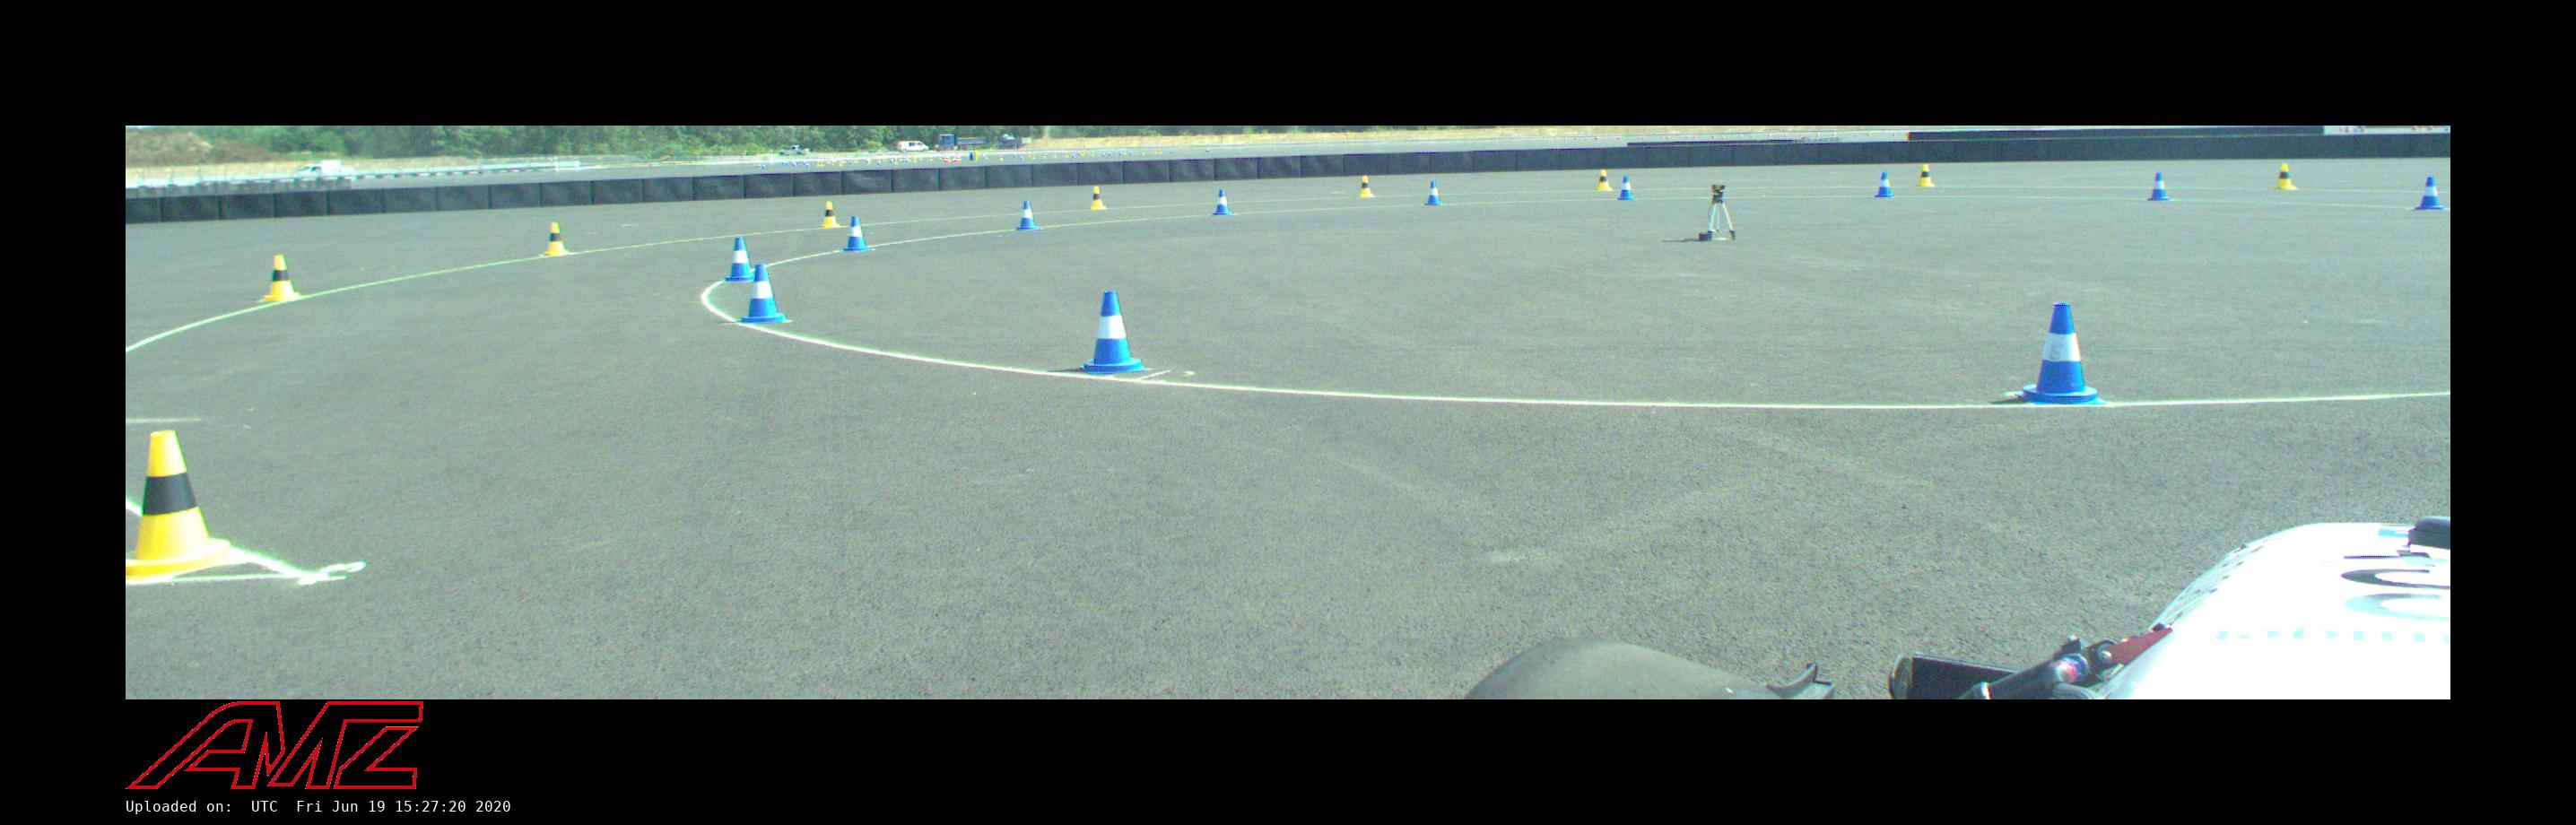blue_cone: (2014, 302, 2109, 406), (1081, 291, 1147, 373), (736, 263, 787, 322), (724, 238, 754, 281), (841, 217, 872, 251), (2417, 176, 2445, 210), (1015, 200, 1042, 230), (2147, 173, 2170, 200), (1212, 189, 1235, 215), (1875, 171, 1896, 197), (1615, 176, 1635, 200), (1423, 181, 1442, 205)
yellow_cone: (125, 431, 230, 578), (260, 255, 301, 301), (542, 222, 568, 255), (2272, 164, 2298, 189), (821, 200, 843, 228), (1916, 164, 1935, 187), (1089, 186, 1107, 210), (1359, 176, 1377, 197), (1597, 169, 1613, 191)
